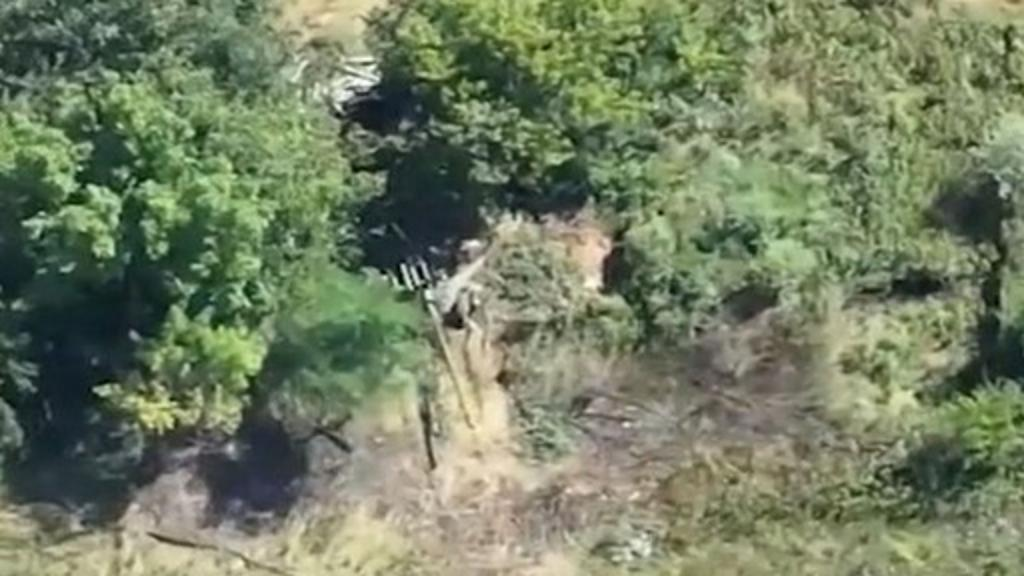ART: (374, 250, 480, 432)
